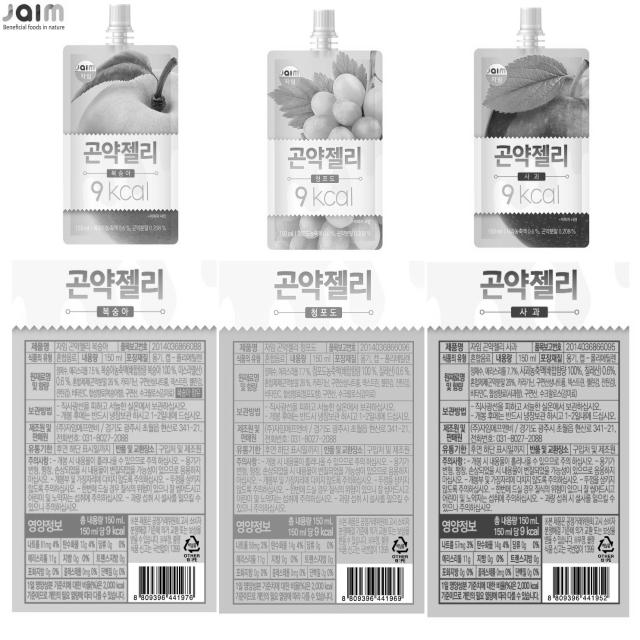Nutrition Label: (435, 509, 552, 618)
